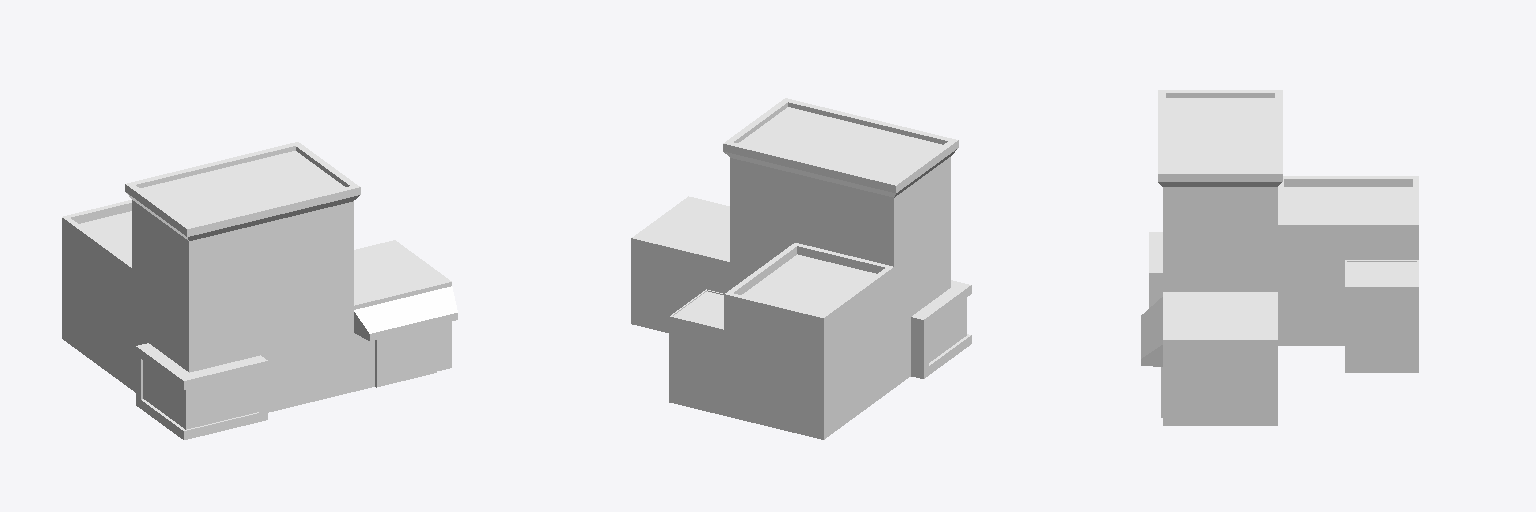
The model's file is Researchers Building 1.obj.
3 views of the same model, side by side, from view 1: azimuth 30°, elevation 25°; view 2: azimuth 150°, elevation 25°; view 3: azimuth 270°, elevation 25° (orthographic).
Visible parts, largest first — view 1: Building_30; view 2: Building_30; view 3: Building_30.
Part boxes in pixels (bbox=[...]): Building_30: bbox=[62, 142, 457, 439]; Building_30: bbox=[631, 98, 971, 439]; Building_30: bbox=[1141, 90, 1418, 425].
Bounding box in the file's own units: 1114 × 794 × 972.